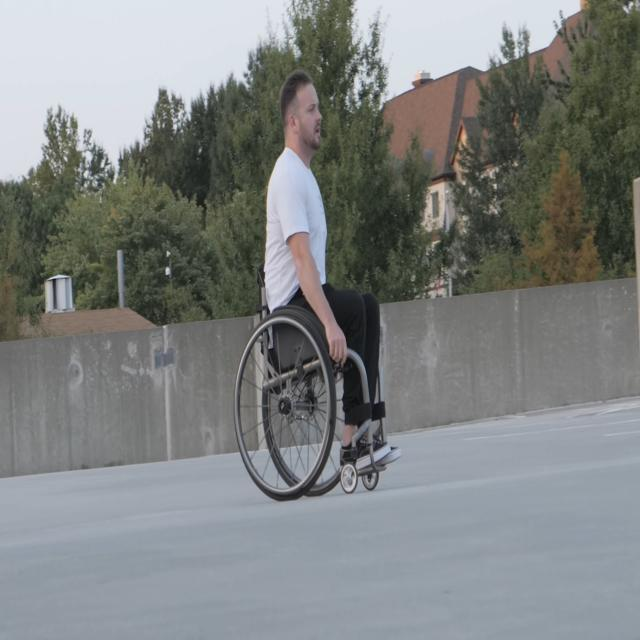wheelchairs: (234, 251, 391, 498)
